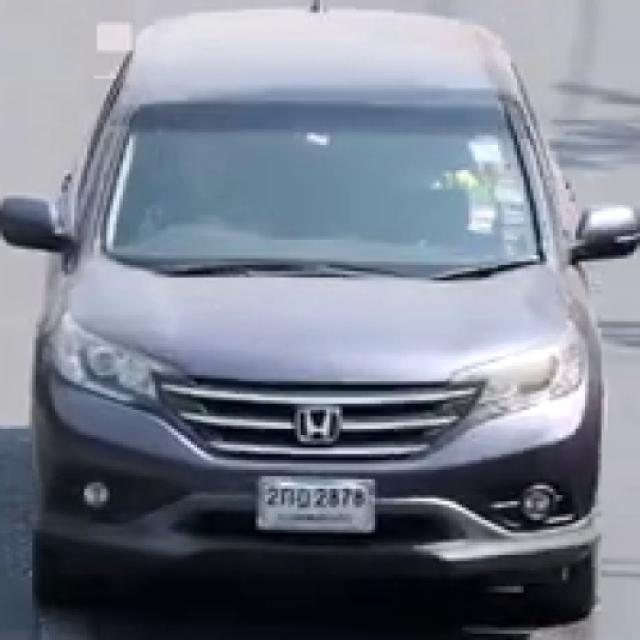plate: (260, 478, 376, 528)
